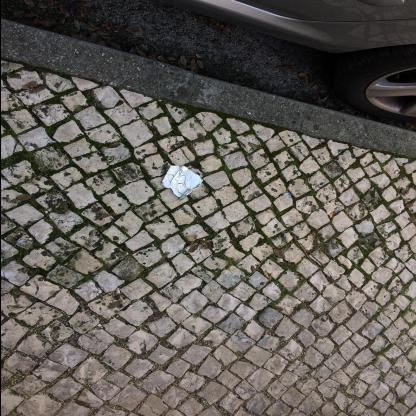metal: (160, 165, 200, 201)
